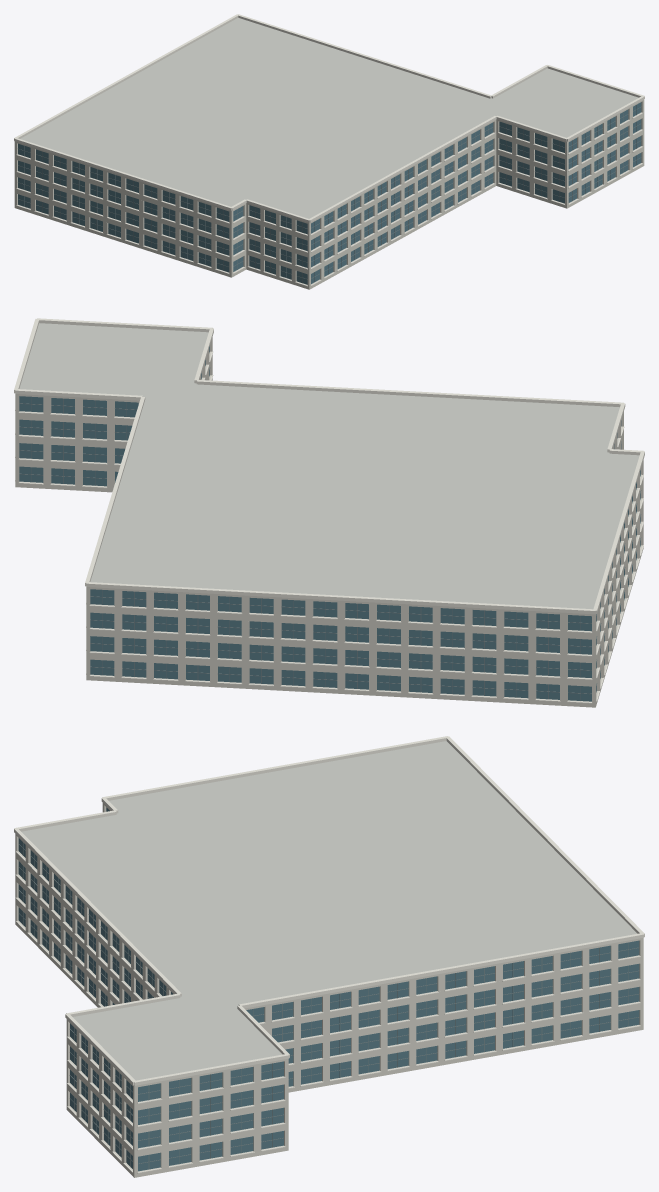
3 views of the same model, one above another, from view 1: azimuth 30°, elevation 25°; view 2: azimuth 150°, elevation 25°; view 3: azimuth 270°, elevation 25° (orthographic). The views are drawn at different scales.
Parts seen in each view (by area): view 1: roof, wall, glass, trim, metal; view 2: roof, wall, glass, trim, metal; view 3: roof, wall, glass, trim, metal.
Part boxes in pixels (x1,y1,x2,y2): roof: [20, 17, 638, 218]; wall: [14, 99, 644, 289]; glass: [18, 102, 641, 284]; trim: [14, 14, 644, 286]; metal: [18, 105, 641, 282]; roof: [19, 323, 639, 609]; wall: [15, 337, 643, 707]; glass: [19, 346, 640, 701]; trim: [14, 318, 644, 703]; metal: [19, 367, 641, 700]; roof: [21, 741, 637, 1080]; wall: [15, 803, 643, 1177]; glass: [18, 807, 639, 1171]; trim: [14, 736, 644, 1173]; metal: [18, 842, 639, 1169].
Bounding box in the file's own units: 101 × 13.04 × 77.83.
